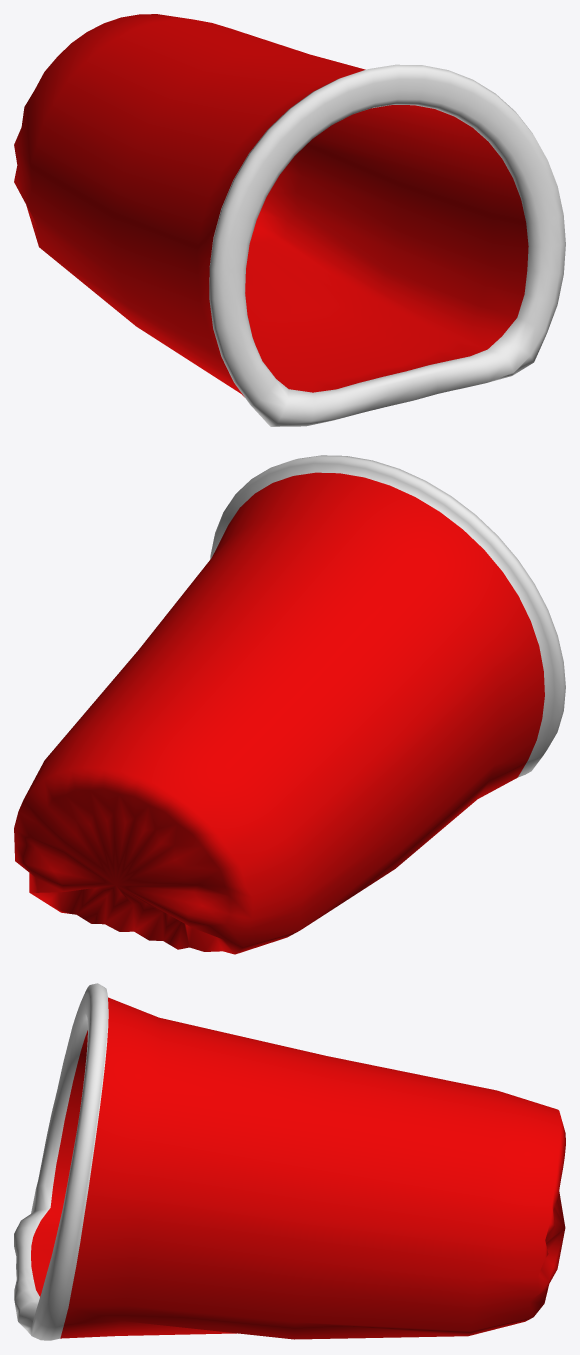
File: Cup.fbx
The picture shows the model from 3 angles, top to bottom: view 1: azimuth 30°, elevation 25°; view 2: azimuth 150°, elevation 25°; view 3: azimuth 270°, elevation 25°; orthographic projection. The views are drawn at different scales.
Parts seen in each view (by area): view 1: Cup:pCylinder2; view 2: Cup:pCylinder2; view 3: Cup:pCylinder2.
Boxes of the visible parts, x1=… form: Cup:pCylinder2: x1=14, y1=14, x2=565, y2=426; Cup:pCylinder2: x1=14, y1=455, x2=565, y2=954; Cup:pCylinder2: x1=14, y1=983, x2=565, y2=1340.
Size of the model in its own units: 2.86 by 2.44 by 4.18.
